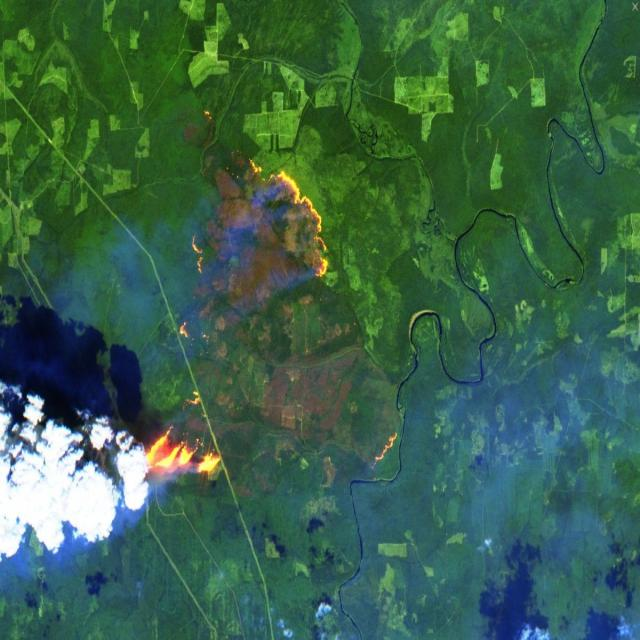fire: (136, 150, 337, 490)
